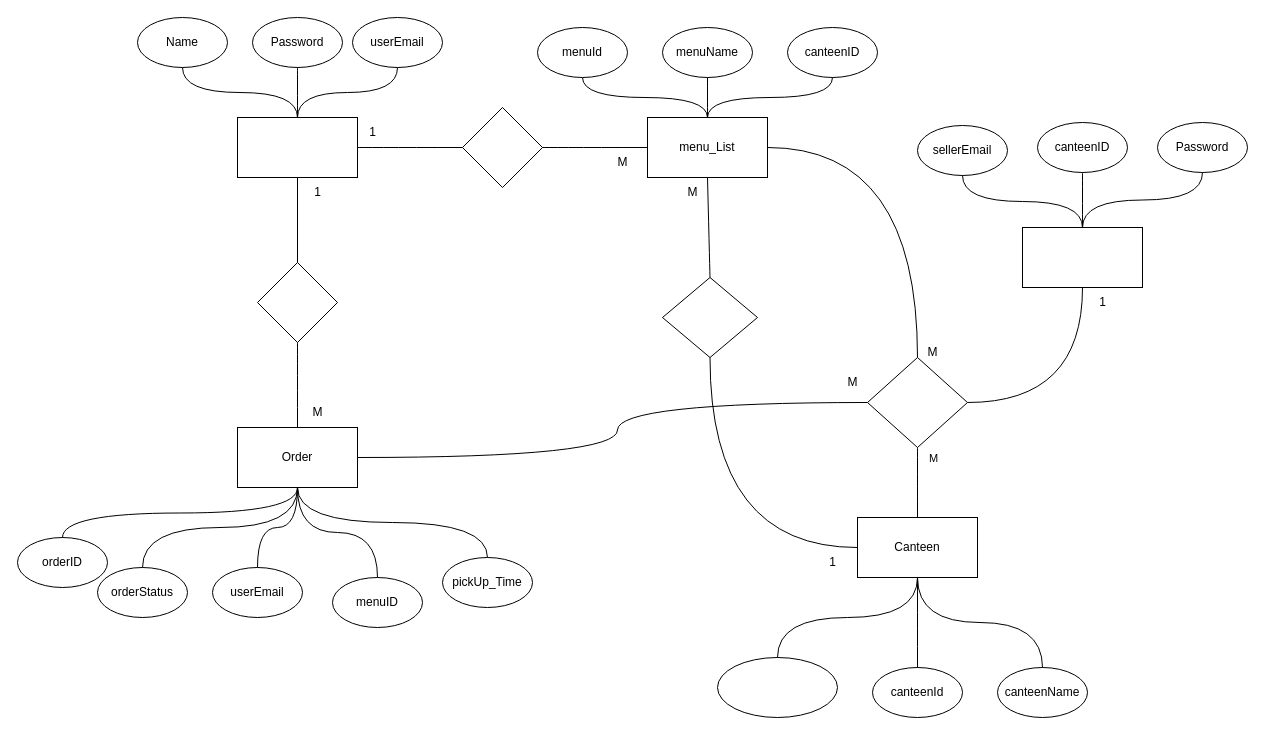
Some shapes in this 1265 by 735 pixel diagram are drawn without their labels. The shapes that lost their labels are listed below. From the top down, each one's centre as x and y in pixels, then its label:
pixel 297 147: User
pixel 502 147: Melihat
pixel 1082 257: Seller
pixel 297 302: Memilih
pixel 710 317: Menyediakan
pixel 917 402: Mengelola
pixel 777 687: canteenDescription
